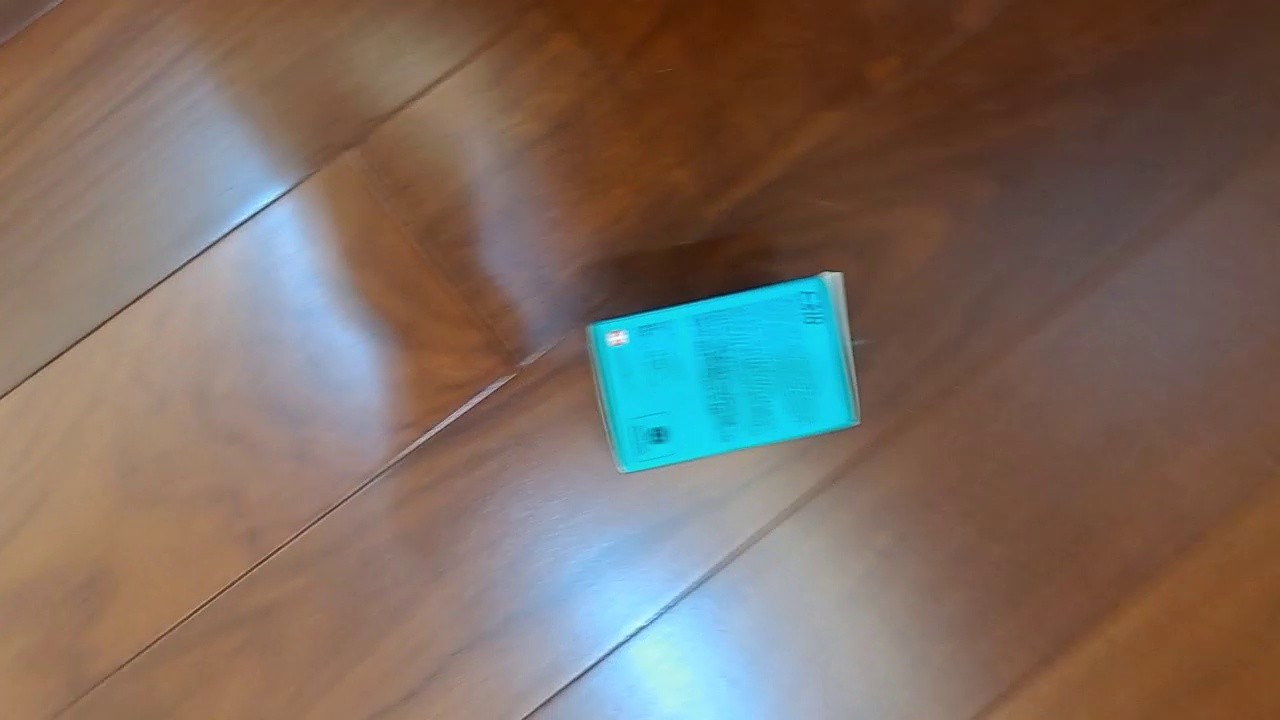webcam: (583, 269, 861, 475)
